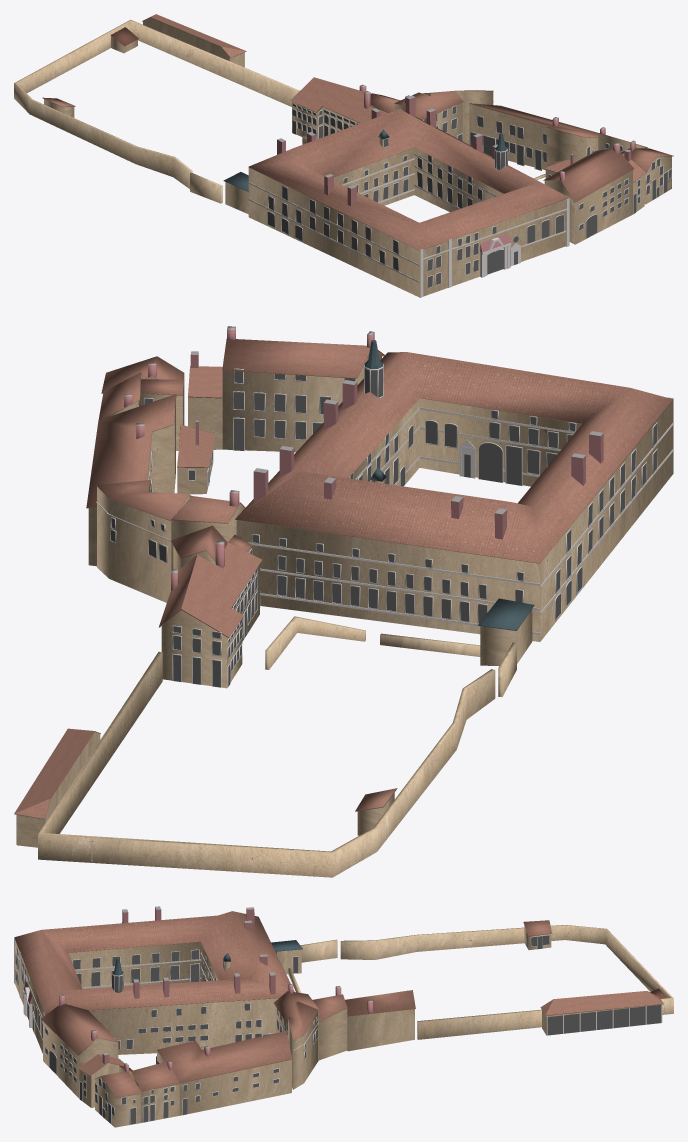
Rendered from ilot48combine.fbx.
3 renders of one model, top to bottom at view 1: azimuth 30°, elevation 25°; view 2: azimuth 150°, elevation 25°; view 3: azimuth 270°, elevation 25°, orthographic. The views are drawn at different scales.
Parts seen in each view (by area): view 1: _ILOT48BAT2, MUR_15, _ILOT48BAT4, _ILOT48BAT6, _ILOT48BAT1, _ILOT48BAT5, _ILOT48BAT16, _ILOT48BAT11, _ILOT48BAT7, MUR1, _ILOT48BAT12, _ILOT48BAT22 (+1 smaller); view 2: _ILOT48BAT2, MUR_15, _ILOT48BAT6, _ILOT48BAT1, _ILOT48BAT5, _ILOT48BAT4, _ILOT48BAT16, _ILOT48BAT7, _ILOT48BAT12, _ILOT48BAT8, MUR3, _ILOT48BAT11 (+5 smaller); view 3: _ILOT48BAT2, MUR_15, _ILOT48BAT4, _ILOT48BAT6, _ILOT48BAT16, _ILOT48BAT1, _ILOT48BAT5, _ILOT48BAT10, _ILOT48BAT11, _ILOT48BAT3, _ILOT48BAT12, _ILOT48BAT17 (+2 smaller).
Boxes of the visible parts, left/top/right/bottom form: _ILOT48BAT2: left=248, top=95, right=569, bottom=297; MUR_15: left=14, top=19, right=299, bottom=188; _ILOT48BAT4: left=469, top=103, right=598, bottom=170; _ILOT48BAT6: left=543, top=142, right=633, bottom=244; _ILOT48BAT1: left=290, top=77, right=387, bottom=139; _ILOT48BAT5: left=394, top=90, right=493, bottom=144; _ILOT48BAT16: left=142, top=14, right=246, bottom=67; _ILOT48BAT11: left=630, top=140, right=673, bottom=204; _ILOT48BAT7: left=223, top=172, right=248, bottom=214; MUR1: left=190, top=172, right=222, bottom=203; _ILOT48BAT12: left=624, top=149, right=645, bottom=214; _ILOT48BAT22: left=110, top=27, right=138, bottom=53; _ILOT48BAT2: left=235, top=340, right=673, bottom=641; MUR_15: left=38, top=651, right=495, bottom=877; _ILOT48BAT6: left=222, top=326, right=384, bottom=452; _ILOT48BAT1: left=159, top=541, right=261, bottom=688; _ILOT48BAT5: left=96, top=480, right=245, bottom=602; _ILOT48BAT4: left=86, top=394, right=176, bottom=566; _ILOT48BAT16: left=14, top=728, right=100, bottom=847; _ILOT48BAT7: left=477, top=598, right=534, bottom=666; _ILOT48BAT12: left=188, top=351, right=222, bottom=449; _ILOT48BAT8: left=177, top=420, right=215, bottom=494; MUR3: left=265, top=616, right=365, bottom=669; _ILOT48BAT11: left=101, top=356, right=184, bottom=424; _ILOT48BAT2: left=14, top=906, right=294, bottom=1054; MUR_15: left=340, top=925, right=673, bottom=1039; _ILOT48BAT4: left=157, top=1031, right=292, bottom=1115; _ILOT48BAT6: left=41, top=995, right=119, bottom=1098; _ILOT48BAT16: left=540, top=991, right=663, bottom=1035; _ILOT48BAT1: left=335, top=986, right=415, bottom=1051; _ILOT48BAT5: left=274, top=984, right=318, bottom=1089; _ILOT48BAT10: left=131, top=1061, right=179, bottom=1122; _ILOT48BAT11: left=94, top=1063, right=141, bottom=1127; _ILOT48BAT3: left=312, top=994, right=347, bottom=1060; _ILOT48BAT12: left=78, top=1053, right=124, bottom=1107; _ILOT48BAT17: left=523, top=920, right=552, bottom=949.
Bounding box in the file's own units: 17.86 × 4.07 × 26.27.
